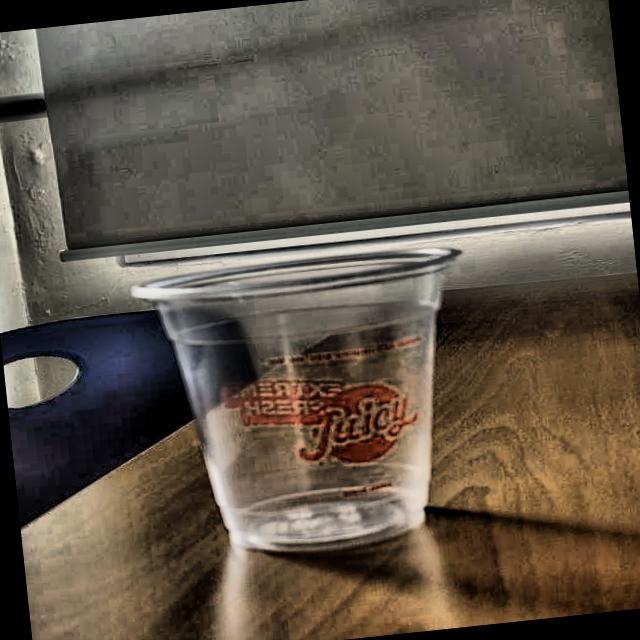plastic cup: (126, 238, 492, 567)
